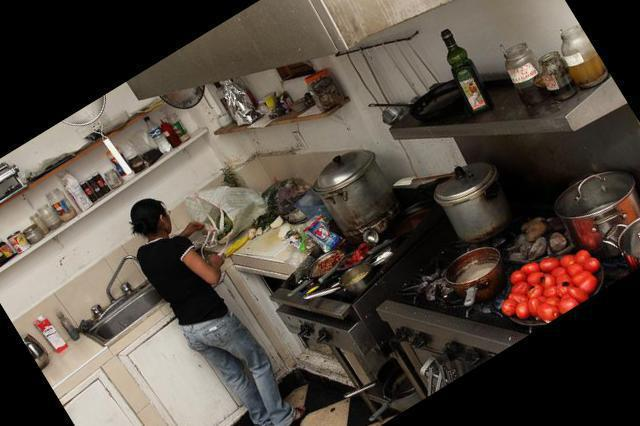Lavaplatos: (48, 203, 231, 360)
